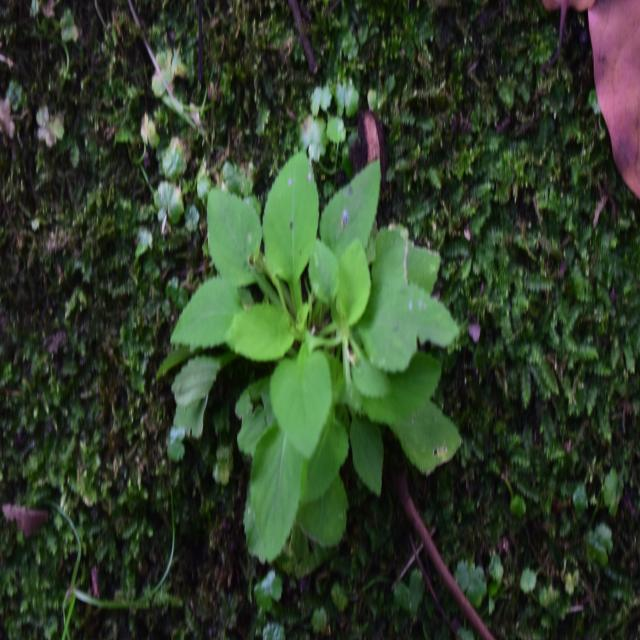Viola: (203, 150, 453, 517)
